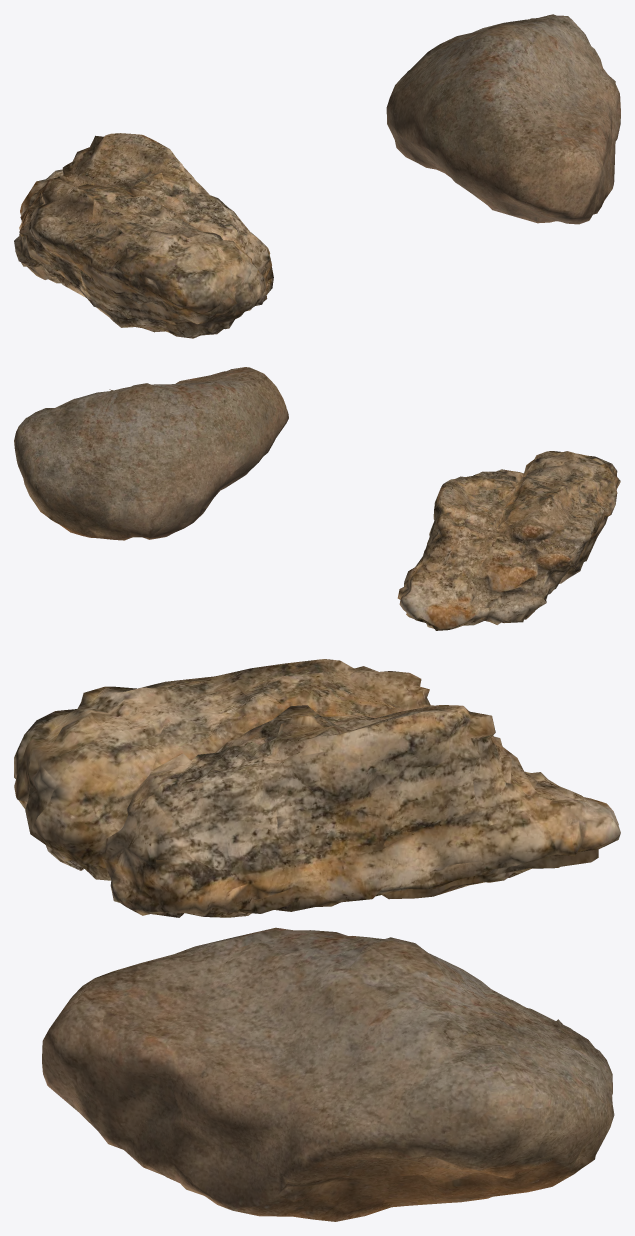
Rendered from namaqualand_boulders_01.glb.
3 views of the same model, one above another, from view 1: azimuth 30°, elevation 25°; view 2: azimuth 150°, elevation 25°; view 3: azimuth 270°, elevation 25° (orthographic). The views are drawn at different scales.
Visible parts, largest first — view 1: namaqualand_rocks_01_a, namaqualand_rocks_01_b; view 2: namaqualand_rocks_01_a, namaqualand_rocks_01_b; view 3: namaqualand_rocks_01_a, namaqualand_rocks_01_b.
Boxes of the visible parts, x1,y1,x2,y2 form: namaqualand_rocks_01_a: (386, 14, 620, 224); namaqualand_rocks_01_b: (14, 133, 273, 338); namaqualand_rocks_01_a: (14, 367, 288, 540); namaqualand_rocks_01_b: (397, 451, 620, 630); namaqualand_rocks_01_a: (42, 927, 614, 1221); namaqualand_rocks_01_b: (14, 659, 620, 917).
Bounding box in the file's own units: 1.06 × 0.2512 × 0.5838.
Materials: 1 (1 with a texture image).
